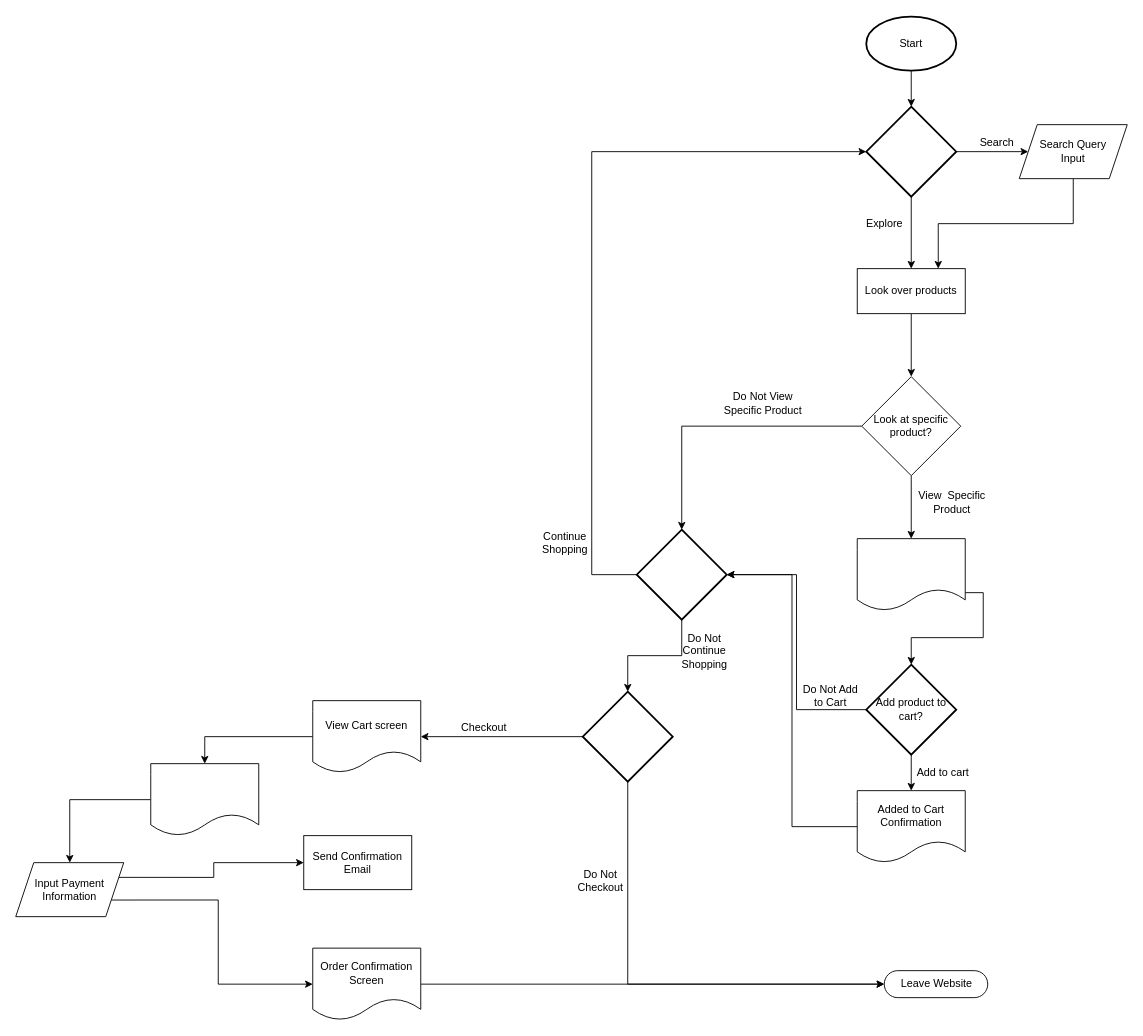
Image size: 1143x1036. Some labels were removed from this diagram. Each missing label, with the box of its shape:
Checkout?: (581, 690, 673, 782)
Continue Shopping?: (635, 528, 727, 620)
Open Product's webpage: (856, 538, 965, 611)
Search by Product or Explore: (865, 105, 957, 197)
View Payment Screen: (150, 763, 259, 836)
